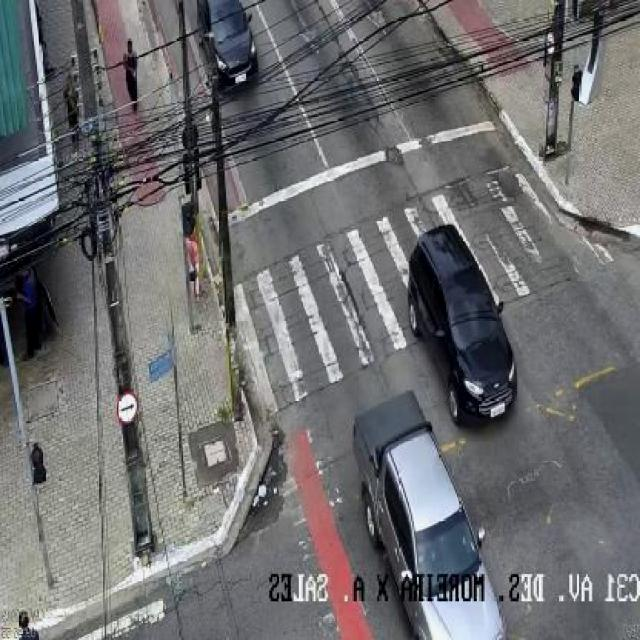Car: (405, 223, 520, 426), (194, 0, 260, 91)
Truck: (351, 390, 507, 640)
